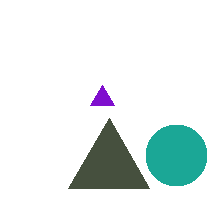circle: (146, 125, 206, 185)
triangle: (68, 118, 149, 188), (90, 85, 114, 105)
